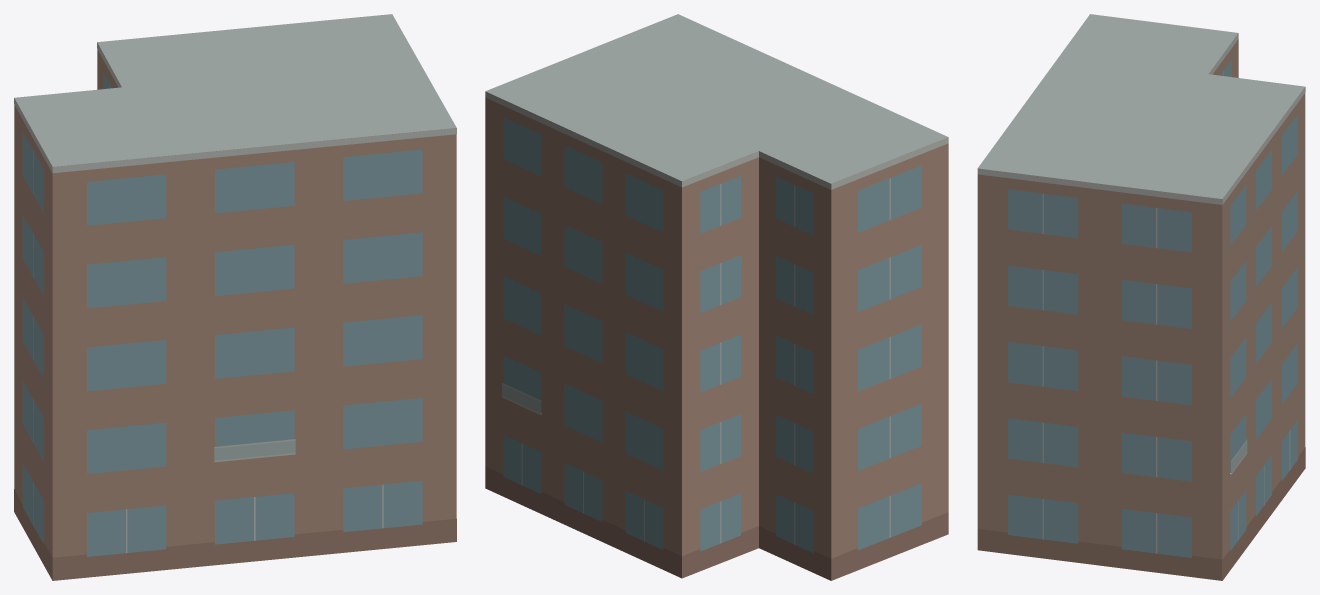
File: survey-upis-33044170.glb
The picture shows the model from 3 angles, left to right: view 1: azimuth 30°, elevation 25°; view 2: azimuth 150°, elevation 25°; view 3: azimuth 270°, elevation 25°; orthographic projection. The views are drawn at different scales.
Parts seen in each view (by area): view 1: survey-upis-33044170.tmp; view 2: survey-upis-33044170.tmp; view 3: survey-upis-33044170.tmp.
Part boxes in pixels (x1,y1,x2,y2): survey-upis-33044170.tmp: (14, 14, 456, 580); survey-upis-33044170.tmp: (485, 14, 948, 580); survey-upis-33044170.tmp: (977, 14, 1305, 580).
Size of the model in its own units: 16.49 by 15.85 by 12.35.
